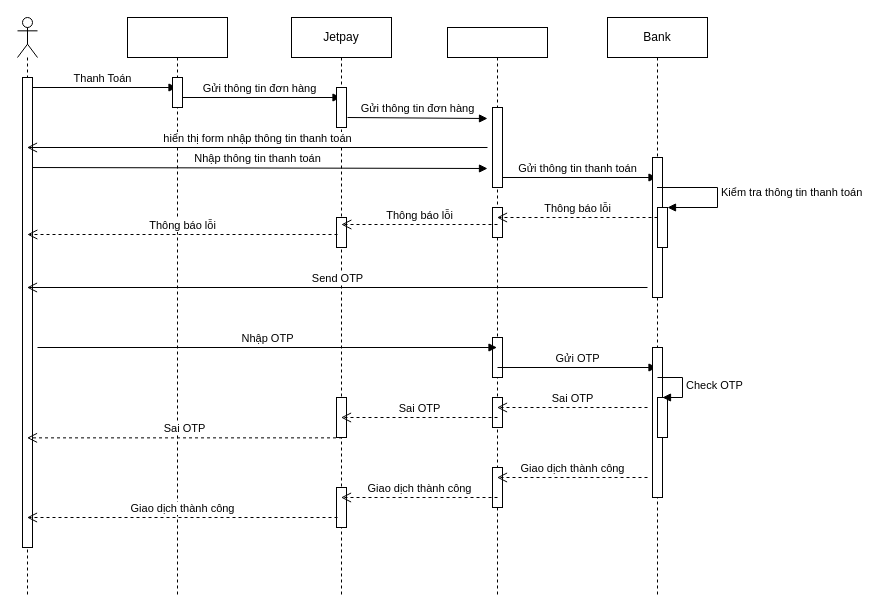
Some shapes in this 880 by 615 pixel diagram are drawn without their labels. Each missing label, with the box of its shape:
Merchant: (126, 16, 228, 598)
Napas: (446, 26, 548, 598)
